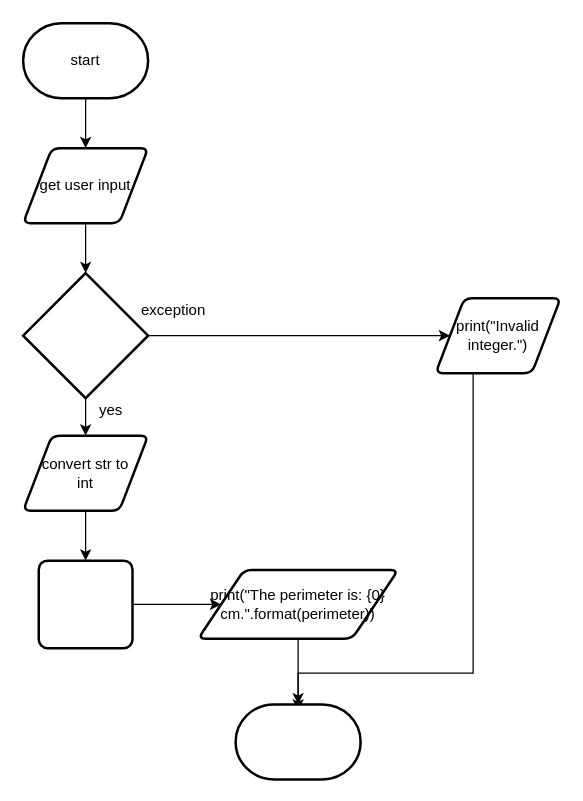
This 583x801 diagram has some shape labels left out. The centre of each missing label's shape, as x and y in pixels:
perimeter = int_side * 10: the point at 85,604
stop: the point at 297,741
try: the point at 85,335
